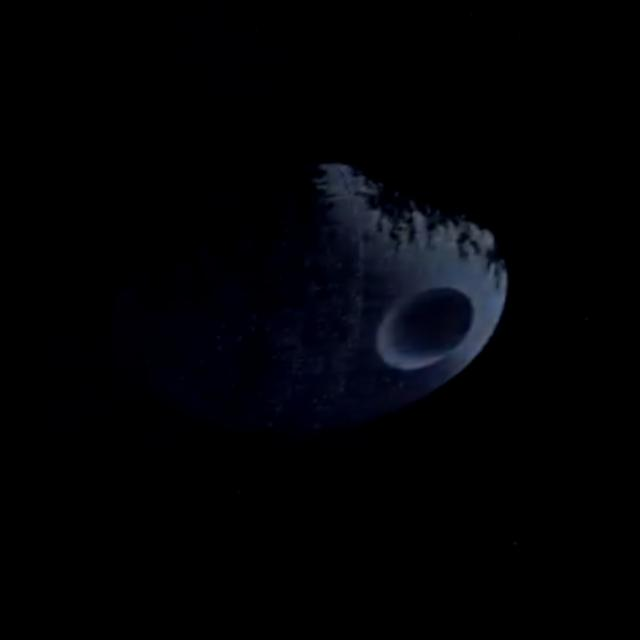deathStar: (104, 152, 520, 446)
